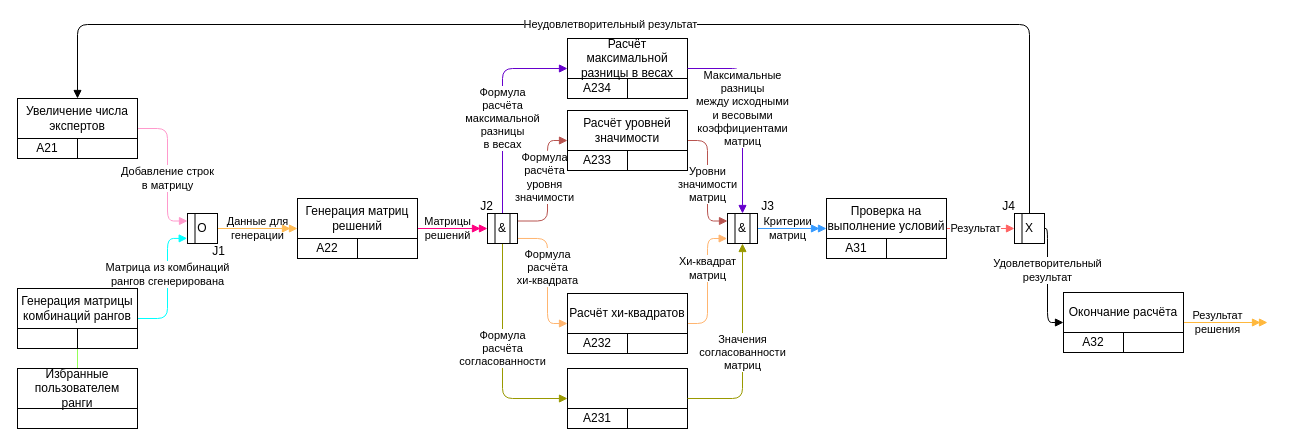
This 1293x446 diagram has some shape labels left out. Here are the shapes that lost their labels. From the top down, the box of each, then its label:
(16, 328, 78, 348): А12
(566, 368, 688, 428): Расчёт значений согласованности
